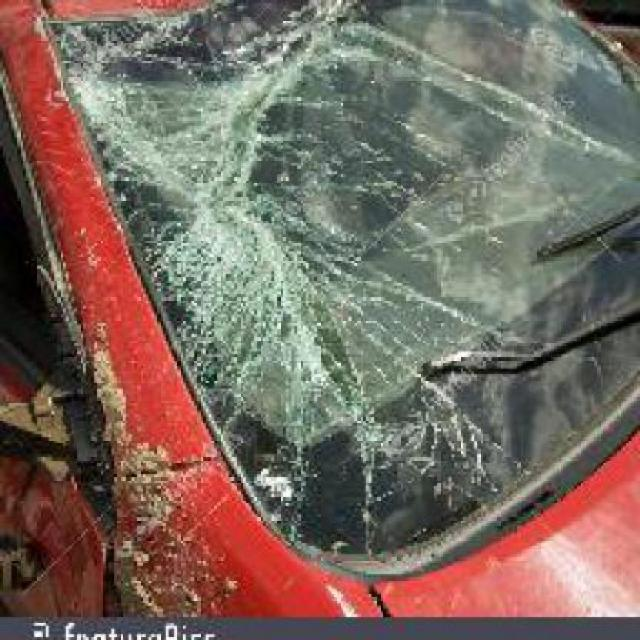damaged-rear-window: (37, 2, 637, 575)
